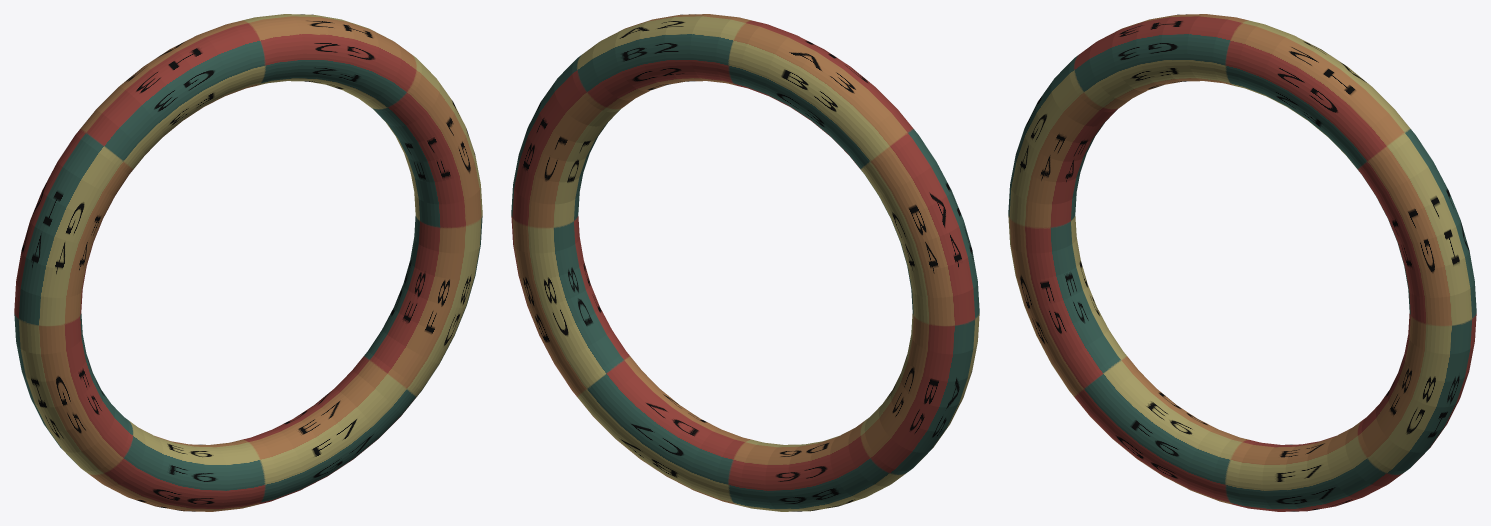
Rendered from texture_torus_R14_r3.glb.
3 views of the same model, side by side, from view 1: azimuth 30°, elevation 25°; view 2: azimuth 150°, elevation 25°; view 3: azimuth 330°, elevation 25° (orthographic).
Visible parts, largest first — view 1: world; view 2: world; view 3: world.
Boxes of the visible parts, left/top/right/bottom form: world: left=14, top=14, right=482, bottom=511; world: left=511, top=14, right=979, bottom=511; world: left=1008, top=14, right=1476, bottom=511.
Size of the model in its own units: 22.13 by 22.09 by 2.79.
Materials: 1 (1 with a texture image).
